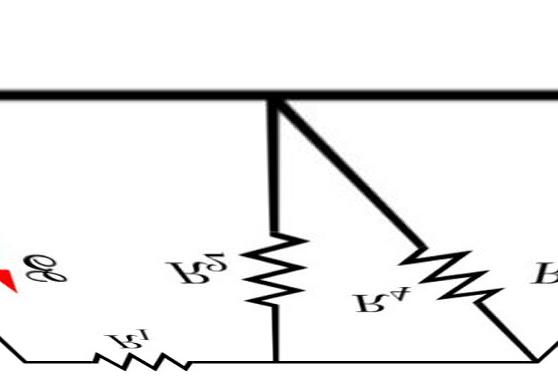resistor: (233, 207, 322, 317), (403, 224, 502, 308), (90, 328, 197, 374)
